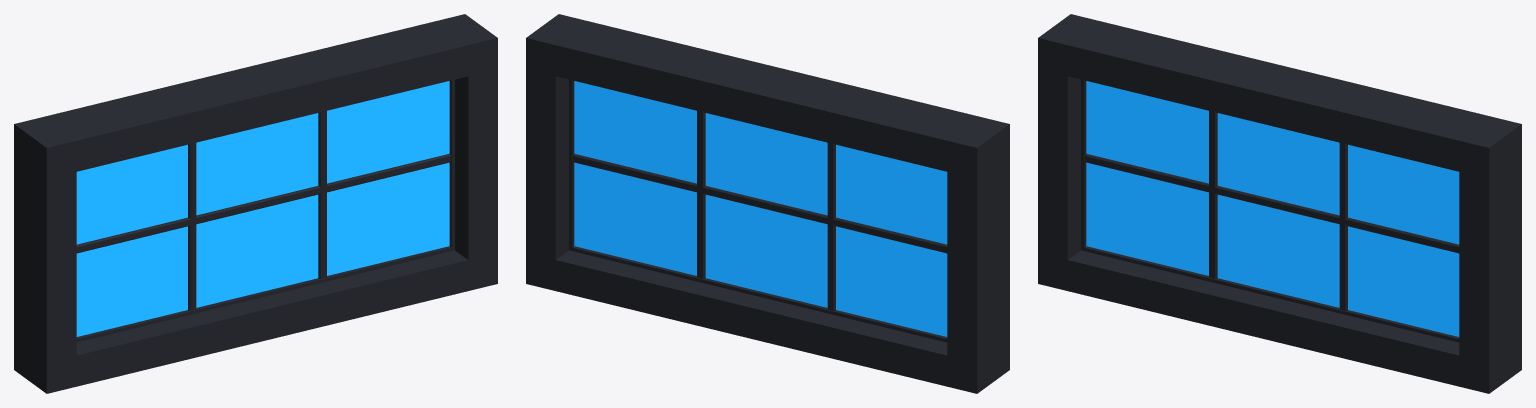
Rendered from janela_larga_grade_3x2_preta.glb.
The picture shows the model from 3 angles, left to right: view 1: azimuth 30°, elevation 25°; view 2: azimuth 150°, elevation 25°; view 3: azimuth 330°, elevation 25°; orthographic projection.
Parts seen in each view (by area): view 1: janela_larga_grade_3x2_preta; view 2: janela_larga_grade_3x2_preta; view 3: janela_larga_grade_3x2_preta.
Part boxes in pixels (x1,y1,x2,y2): janela_larga_grade_3x2_preta: (14, 14, 497, 393); janela_larga_grade_3x2_preta: (526, 14, 1009, 393); janela_larga_grade_3x2_preta: (1038, 14, 1521, 393).
Size of the model in its own units: 1.67 by 0.87 by 0.21.
